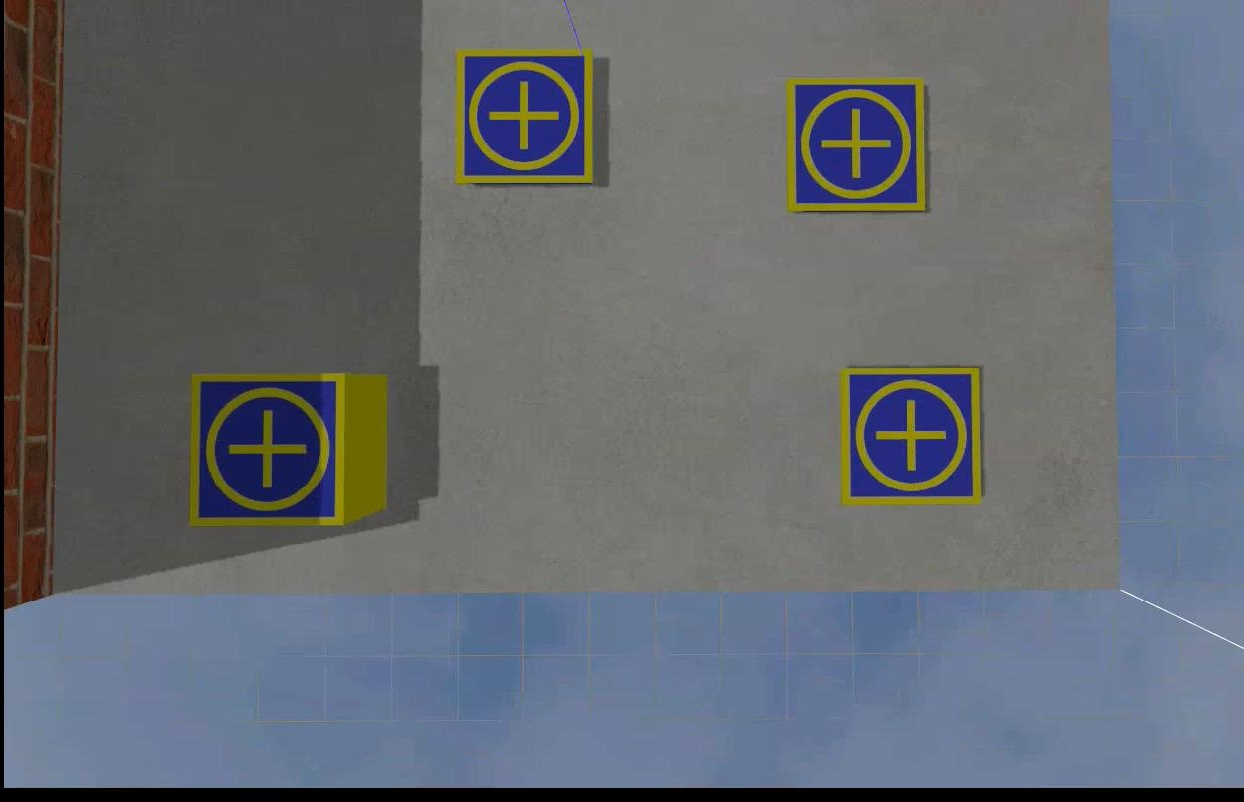small_base: (185, 371, 346, 528), (834, 367, 980, 504), (454, 47, 592, 184), (786, 81, 921, 214)
